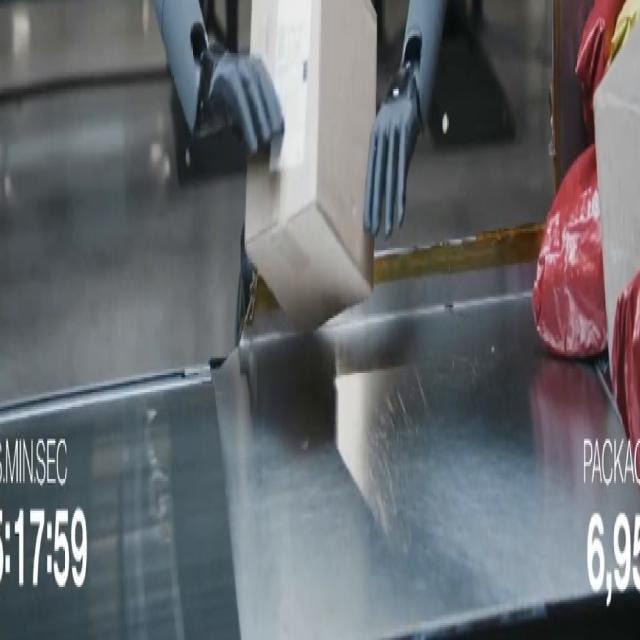package: (246, 0, 376, 330), (533, 145, 607, 358), (595, 30, 639, 364), (576, 0, 624, 141), (611, 272, 639, 449), (611, 0, 639, 61)
